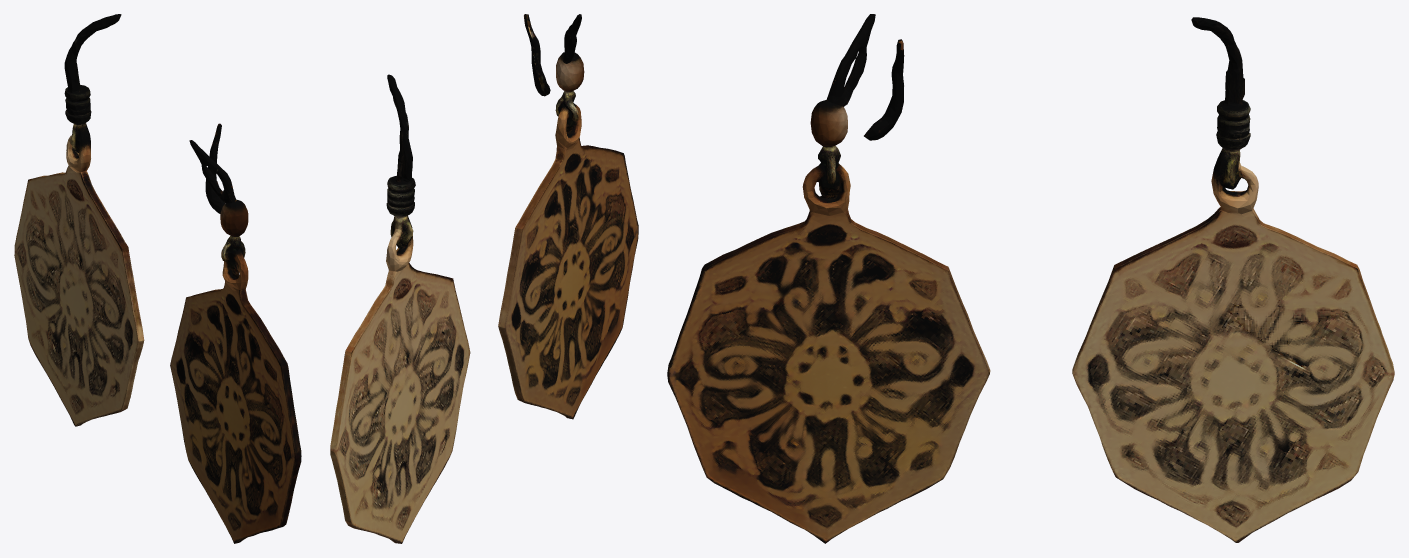
Rendered from wooden-earrings-vintage.jpeg.glb.
3 views of the same model, side by side, from view 1: azimuth 30°, elevation 25°; view 2: azimuth 150°, elevation 25°; view 3: azimuth 270°, elevation 25° (orthographic). The views are drawn at different scales.
Visible parts, largest first — view 1: world; view 2: world; view 3: world.
Boxes of the visible parts, bbox=[...] form: world: bbox=[14, 14, 301, 543]; world: bbox=[330, 14, 638, 543]; world: bbox=[667, 14, 1394, 543].
Bounding box in the file's own units: 0.1147 × 0.8202 × 1.
Materials: 1 (1 with a texture image).
